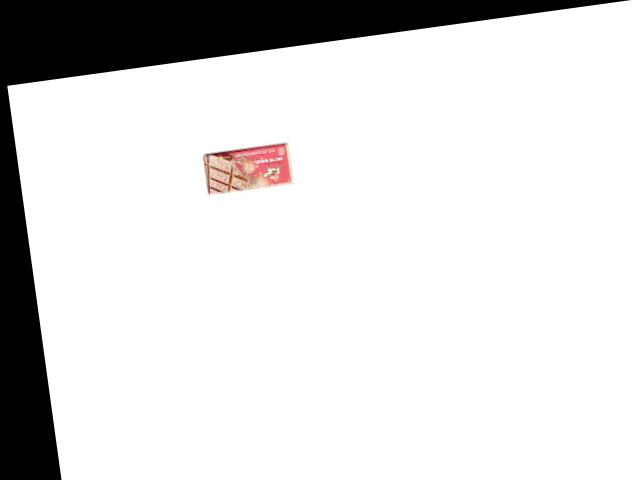chocolate: (200, 140, 294, 197)
